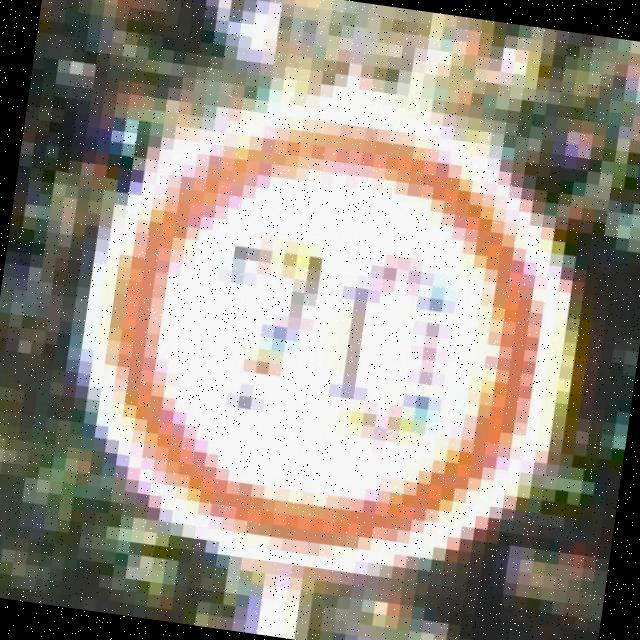Ograniczenie predkosci do 70: (76, 102, 564, 574)
